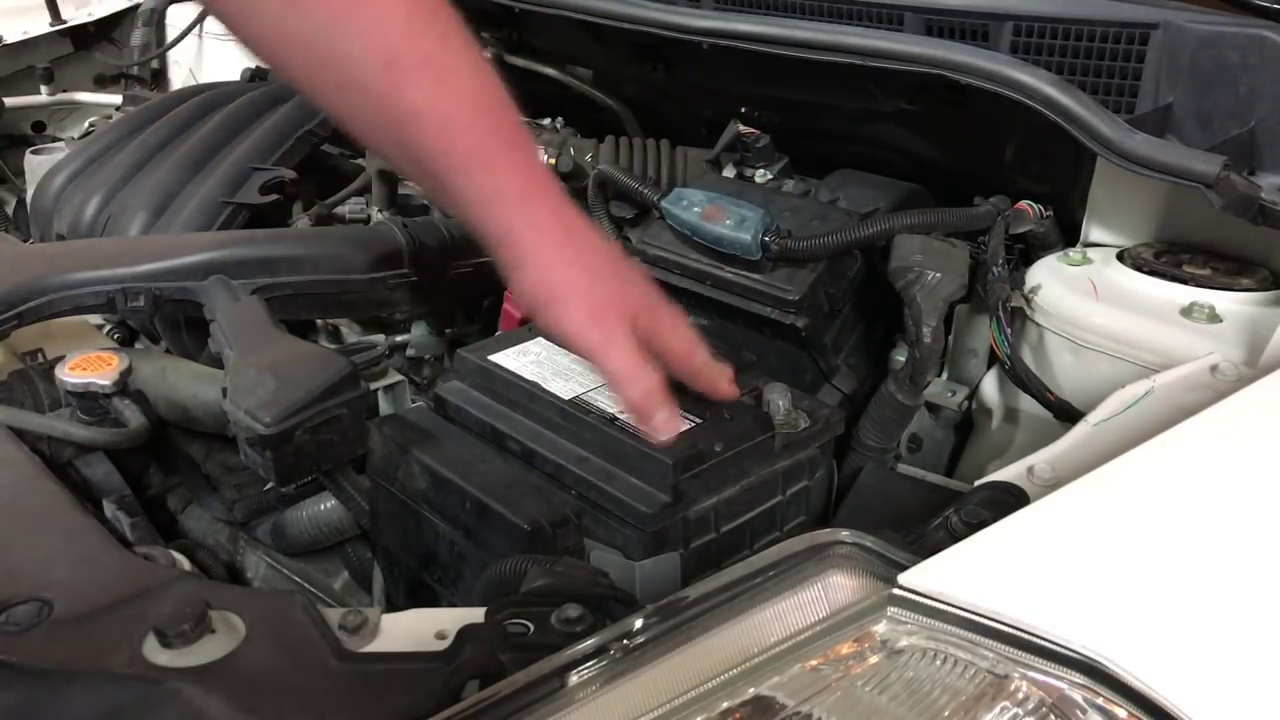battery: (457, 309, 824, 466)
neg_disconnected: (750, 373, 824, 454)
pos_touched: (471, 239, 587, 353)
